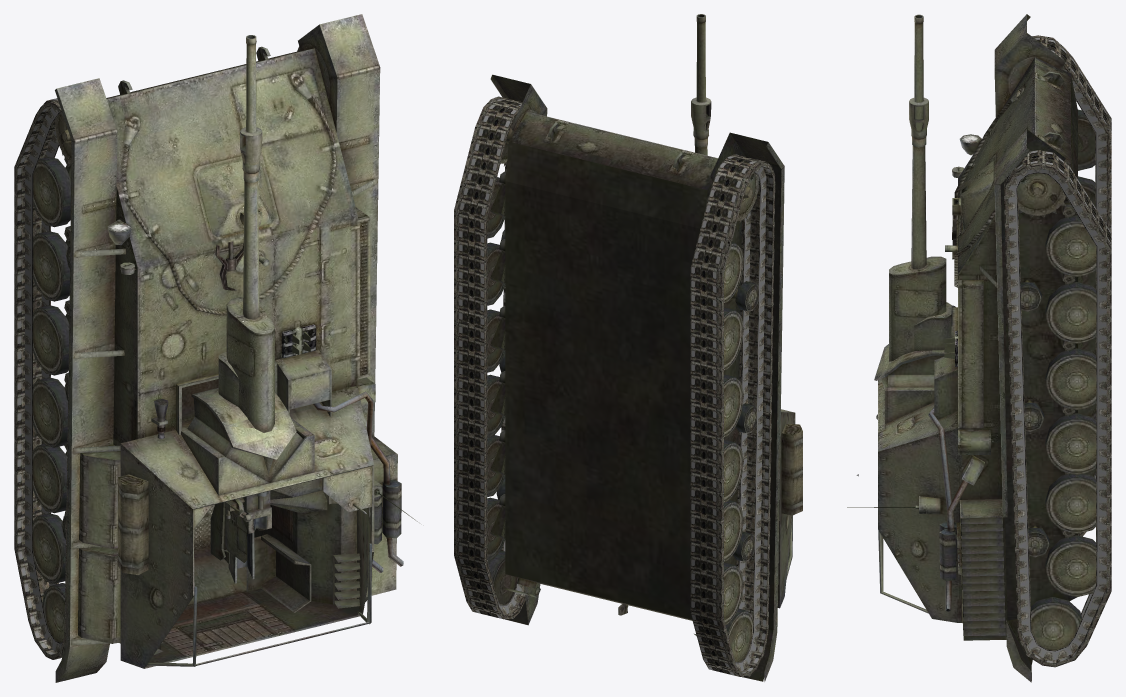
3 views of the same model, side by side, from view 1: azimuth 30°, elevation 25°; view 2: azimuth 150°, elevation 25°; view 3: azimuth 270°, elevation 25° (orthographic). The views are drawn at different scales.
Visible parts, largest first — view 1: hull, chassis_track_L, gun_03, gun_01, gun_04, turret_01, chassis_wheel_L_02, chassis_wheel_L_05, chassis_wheel_L_04, chassis_wheel_L_07, chassis_wheel_L_08, chassis_wheel_L_10 (+1 smaller); view 2: hull, chassis_track_L, chassis_track_R, chassis_wheel_L_11, chassis_wheel_L_05, chassis_wheel_L_04, chassis_wheel_L_07, chassis_wheel_L_10, chassis_wheel_L_08, gun_03, chassis_wheel_R_11, chassis_wheel_L_02 (+8 smaller); view 3: hull, chassis_track_R, gun_04, chassis_track_L, gun_03, chassis_wheel_R_04, chassis_wheel_R_05, chassis_wheel_R_07, chassis_wheel_R_10, chassis_wheel_R_08, chassis_wheel_R_02, chassis_wheel_R_11 (+7 smaller).
Boxes of the visible parts, x1,y1,x2,y2 form: hull: [55, 14, 417, 682]; chassis_track_L: [14, 98, 71, 659]; gun_03: [191, 127, 290, 579]; gun_01: [192, 352, 287, 583]; gun_04: [205, 35, 296, 583]; turret_01: [187, 398, 302, 481]; chassis_wheel_L_02: [33, 157, 70, 227]; chassis_wheel_L_05: [33, 305, 69, 375]; chassis_wheel_L_04: [33, 231, 69, 301]; chassis_wheel_L_07: [33, 377, 67, 447]; chassis_wheel_L_08: [33, 444, 67, 513]; chassis_wheel_L_10: [32, 513, 65, 583]; hull: [490, 74, 802, 681]; chassis_track_L: [690, 154, 775, 676]; chassis_track_R: [454, 96, 525, 619]; chassis_wheel_L_11: [725, 608, 753, 661]; chassis_wheel_L_05: [724, 374, 743, 436]; chassis_wheel_L_04: [724, 307, 743, 370]; chassis_wheel_L_07: [724, 440, 743, 502]; chassis_wheel_L_10: [724, 562, 743, 624]; chassis_wheel_L_08: [724, 500, 743, 561]; gun_03: [691, 97, 711, 155]; chassis_wheel_R_11: [487, 551, 517, 604]; chassis_wheel_L_02: [724, 242, 743, 302]; hull: [847, 14, 1083, 682]; chassis_track_R: [1004, 150, 1111, 667]; gun_04: [874, 14, 946, 419]; chassis_track_L: [1032, 35, 1111, 536]; gun_03: [879, 97, 946, 375]; chassis_wheel_R_04: [1045, 282, 1096, 343]; chassis_wheel_R_05: [1045, 348, 1096, 410]; chassis_wheel_R_07: [1045, 413, 1096, 475]; chassis_wheel_R_10: [1045, 535, 1095, 597]; chassis_wheel_R_08: [1045, 473, 1095, 533]; chassis_wheel_R_02: [1045, 215, 1096, 277]; chassis_wheel_R_11: [1031, 597, 1081, 650].
Bounding box in the file's own units: 2.8 × 5.78 × 2.48.
Materials: 2 (2 with a texture image).
